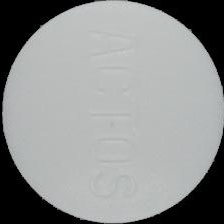0093-2048: (0, 0, 224, 224)
